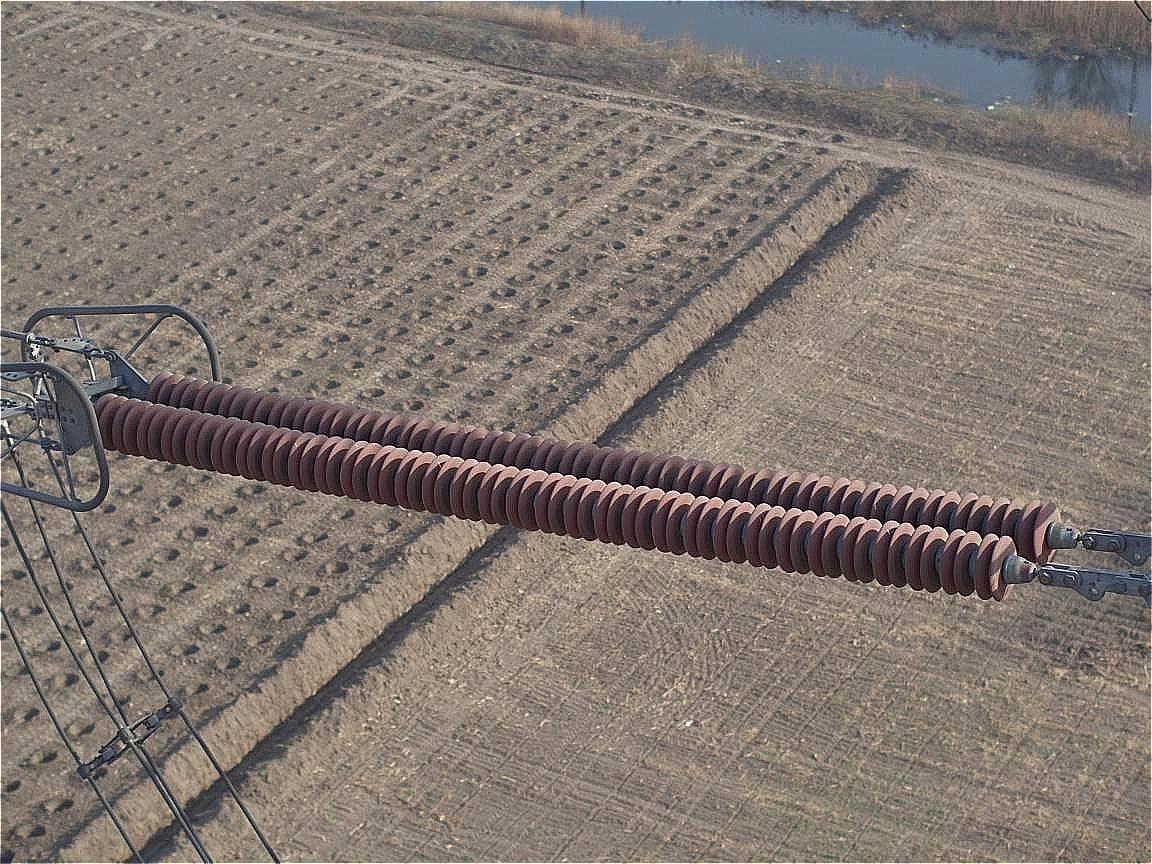insultor2: (95, 373, 1062, 608)
